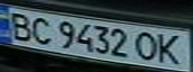2: (109, 26, 133, 60)
3: (90, 24, 112, 56)
4: (72, 21, 93, 54)
9: (51, 18, 78, 51)
B: (3, 9, 36, 42)
C: (27, 15, 57, 46)
K: (154, 30, 187, 66)
O: (133, 29, 160, 63)
